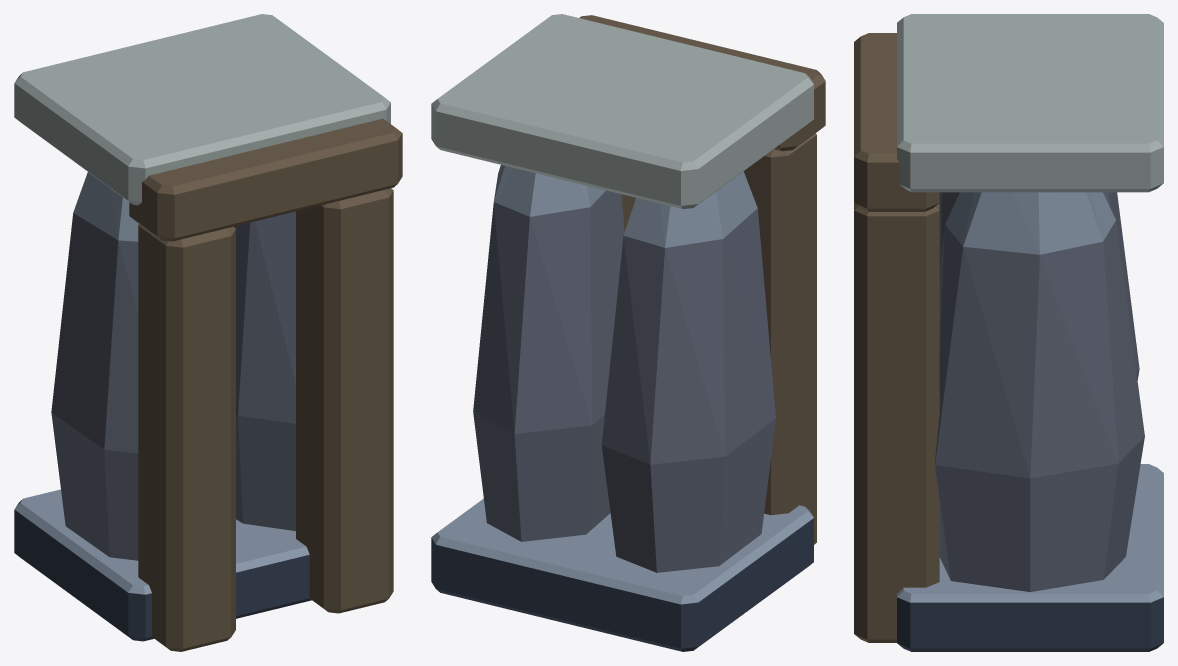
File: wall-end.glb
The picture shows the model from 3 angles, left to right: view 1: azimuth 30°, elevation 25°; view 2: azimuth 150°, elevation 25°; view 3: azimuth 270°, elevation 25°; orthographic projection. The views are drawn at different scales.
Visible parts, largest first — view 1: wall-end__body; view 2: wall-end__body; view 3: wall-end__body.
Part boxes in pixels (x1,y1,x2,y2): wall-end__body: (14,14,402,651); wall-end__body: (431,14,825,651); wall-end__body: (854,14,1163,651).
Size of the model in its own units: 0.6057 by 1.05 by 0.58.
